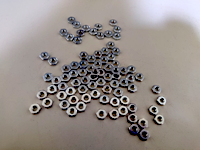nut: (29, 104, 41, 115), (76, 102, 87, 113), (130, 124, 140, 136), (140, 130, 150, 142), (42, 99, 53, 109), (47, 85, 58, 95), (58, 82, 69, 92), (81, 94, 92, 104), (56, 92, 68, 101), (67, 107, 77, 117), (78, 85, 88, 95), (97, 110, 107, 120), (110, 110, 120, 120), (128, 114, 138, 124), (138, 119, 148, 129), (155, 115, 165, 125), (120, 78, 130, 88), (135, 73, 145, 83), (39, 52, 50, 61), (71, 79, 82, 88), (37, 91, 47, 100), (44, 73, 53, 83), (48, 57, 58, 66), (60, 101, 70, 110), (69, 96, 79, 105), (61, 65, 71, 74), (88, 81, 98, 90), (97, 78, 106, 88), (110, 80, 120, 89), (100, 95, 109, 105), (111, 98, 120, 108), (119, 106, 128, 116), (121, 96, 130, 106), (128, 104, 137, 114), (153, 85, 162, 95), (158, 97, 167, 107), (111, 79, 120, 89), (127, 65, 137, 74), (128, 84, 138, 93), (79, 60, 88, 69), (81, 76, 90, 85), (87, 55, 96, 64), (112, 47, 121, 56), (150, 106, 159, 115), (114, 89, 123, 98), (104, 73, 113, 82), (120, 67, 129, 76), (127, 74, 136, 83), (66, 88, 76, 96), (61, 74, 71, 82), (91, 91, 101, 99), (112, 72, 122, 80), (53, 77, 62, 85), (79, 52, 88, 60), (100, 56, 108, 65), (107, 54, 116, 62), (104, 64, 113, 72), (59, 29, 68, 37), (74, 36, 82, 45), (89, 28, 98, 36), (105, 30, 113, 39), (109, 19, 118, 27), (113, 33, 122, 41), (103, 86, 112, 94), (112, 67, 121, 75), (69, 71, 79, 78), (79, 69, 87, 77), (71, 62, 79, 70), (87, 65, 95, 73), (66, 34, 74, 42), (95, 23, 103, 31), (114, 25, 122, 33), (89, 74, 98, 81), (94, 62, 103, 69), (101, 48, 110, 55), (106, 42, 115, 49), (112, 61, 121, 68), (95, 51, 102, 59), (92, 69, 100, 76), (98, 69, 105, 77), (68, 17, 76, 24), (74, 22, 82, 29), (83, 25, 90, 32), (98, 32, 104, 40)
